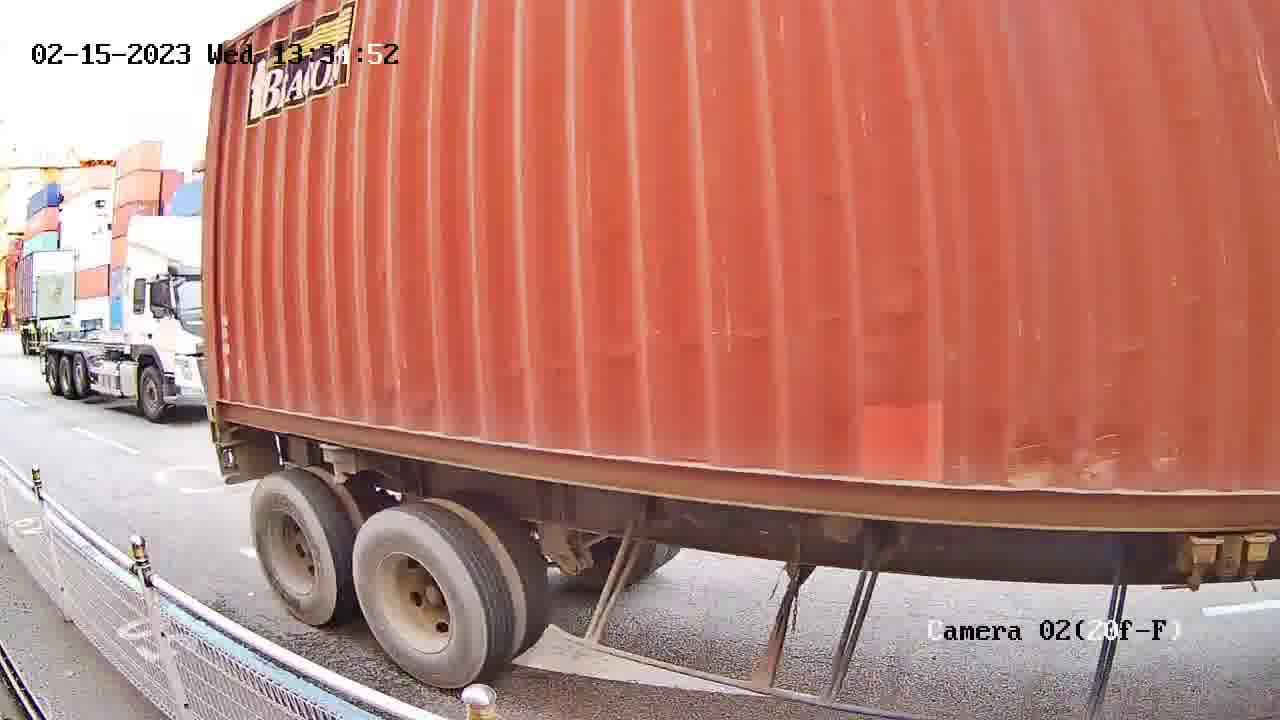Cone: (202, 418, 230, 446)
Hole_L: (206, 375, 253, 425)
Tire: (353, 511, 486, 690), (250, 480, 340, 624)
